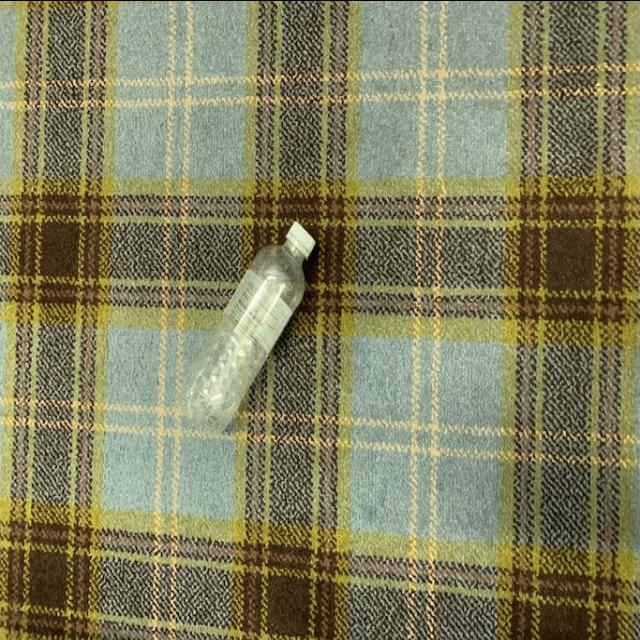litter: (186, 220, 320, 436)
